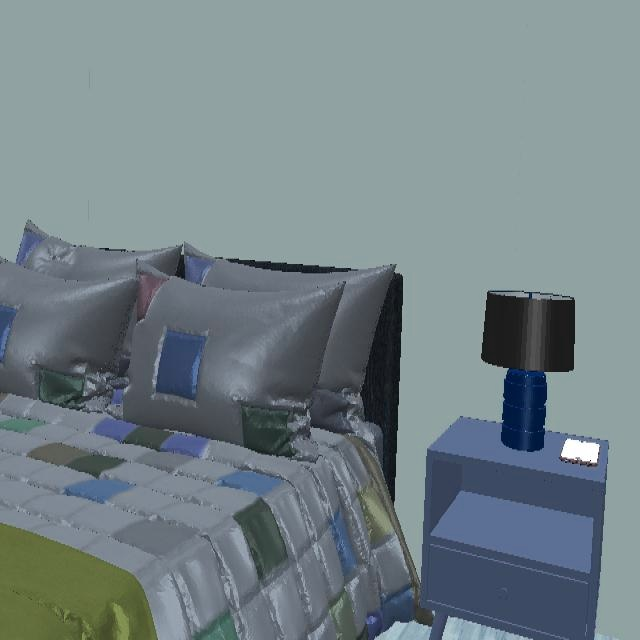bed: (0, 275, 417, 640)
book: (561, 439, 600, 467)
lamp: (481, 291, 576, 452)
nighttable: (419, 427, 608, 640), (429, 417, 556, 471)
pillow: (122, 263, 345, 461), (184, 243, 394, 433), (0, 263, 136, 412), (16, 220, 181, 284)
